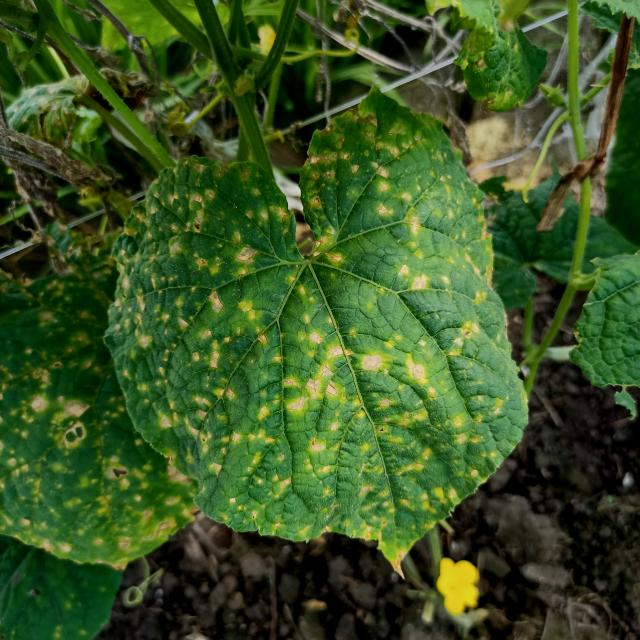disease_cucumber: (120, 100, 514, 545), (0, 257, 212, 567)
